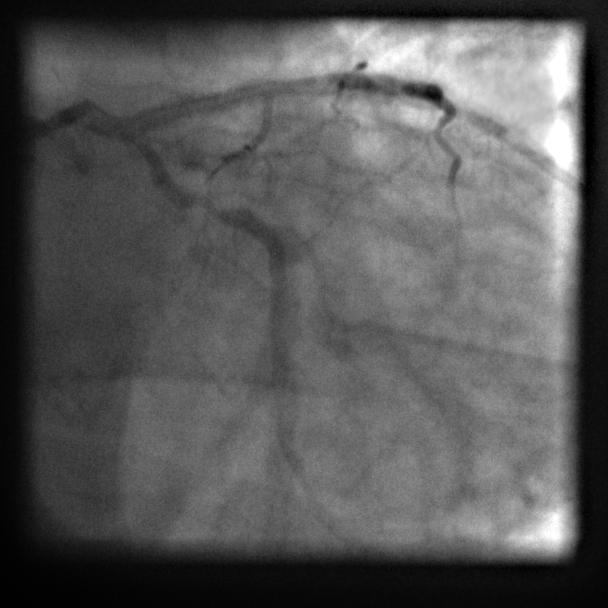Stenosis: (190, 191, 232, 221)
